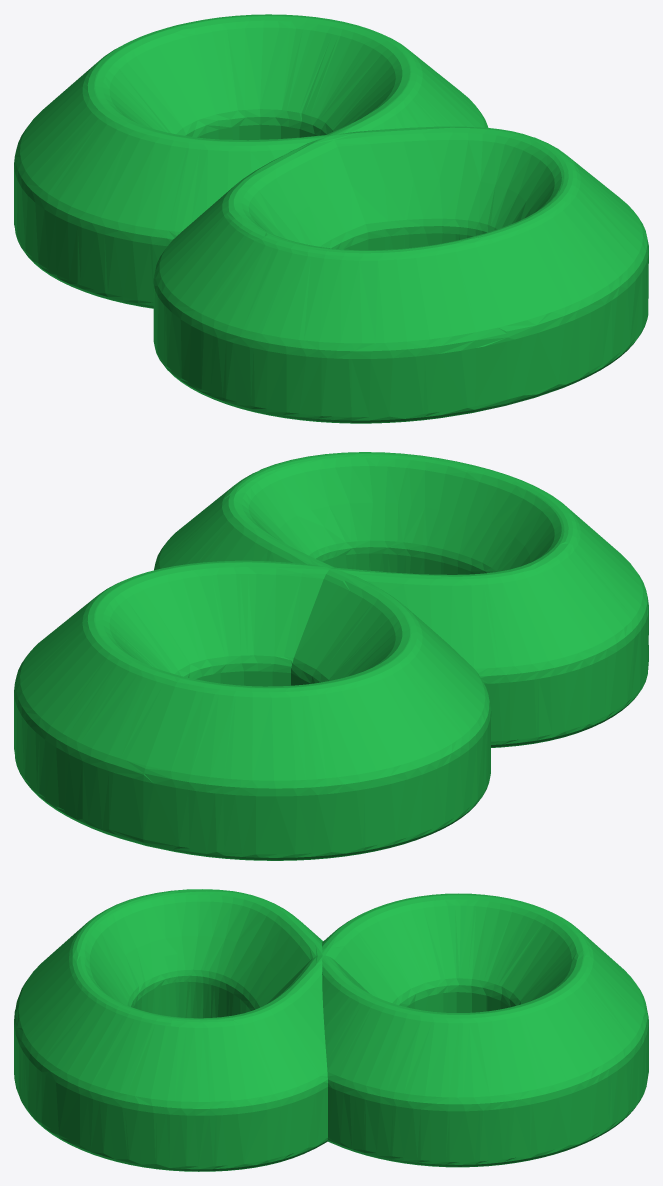
3 renders of one model, top to bottom at view 1: azimuth 30°, elevation 25°; view 2: azimuth 150°, elevation 25°; view 3: azimuth 270°, elevation 25°, orthographic. The views are drawn at different scales.
Bounding box in the file's own units: 0.0173 × 0.00532 × 0.0245.
